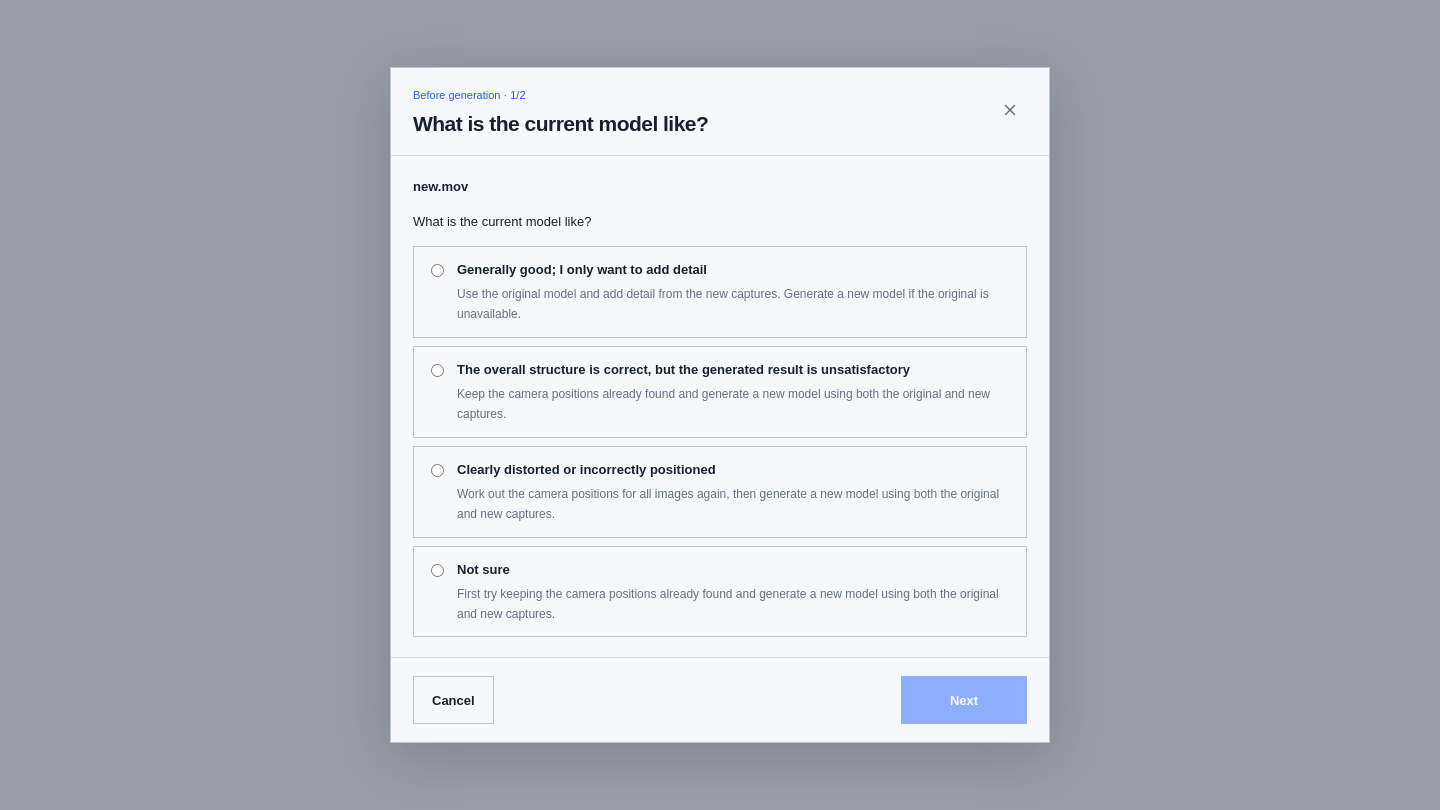
Test: reshoot descriptions use plain English without a second plan confirmation
Expected: the text "camera positions" is shown, [457,387,990,421]
Expected: the button "Next" is shown, [901,676,1027,724]
Click the 1st radio button.
click(438, 270)  # box [431,264,444,277]
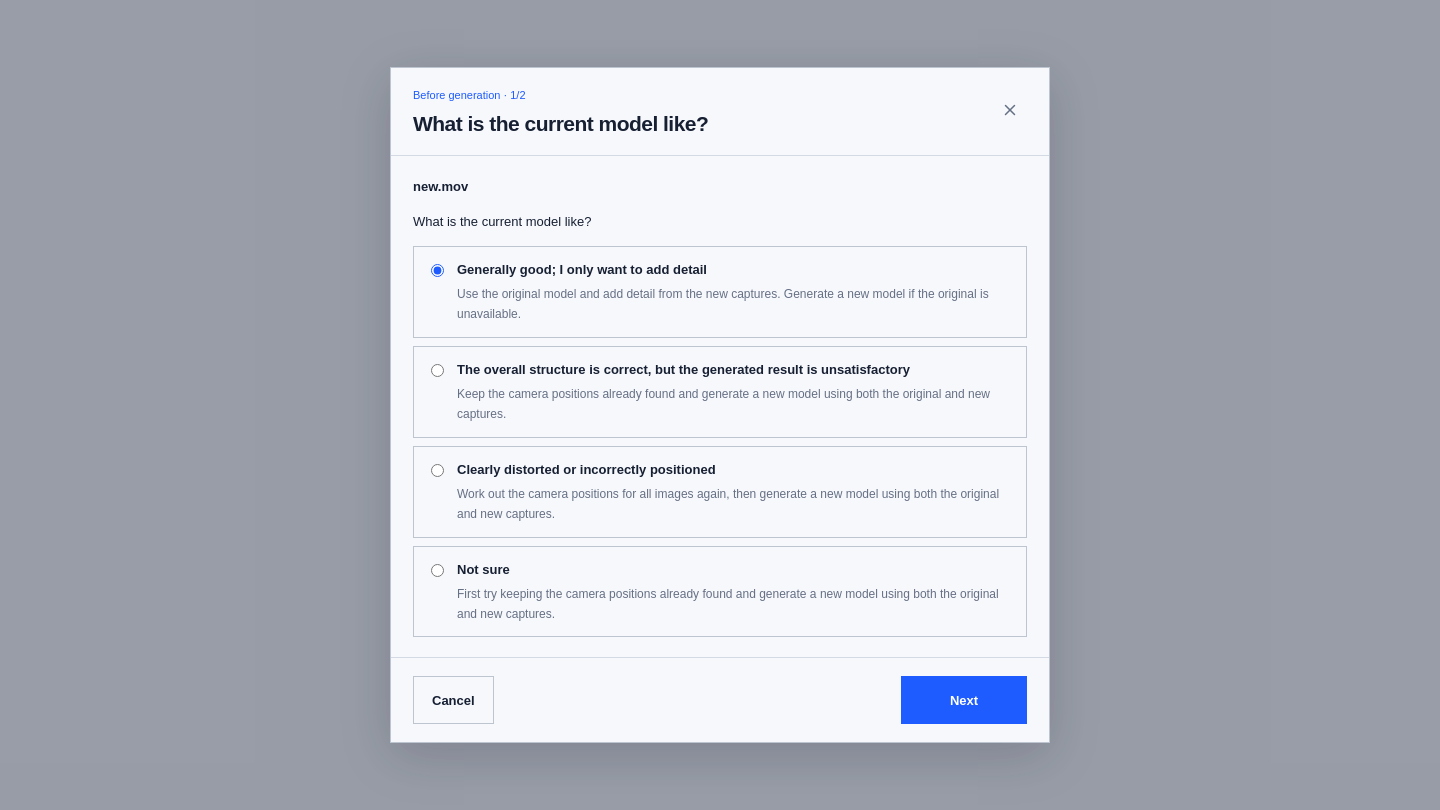
Click the button "Next".
click(964, 700)  # box [901,676,1027,724]
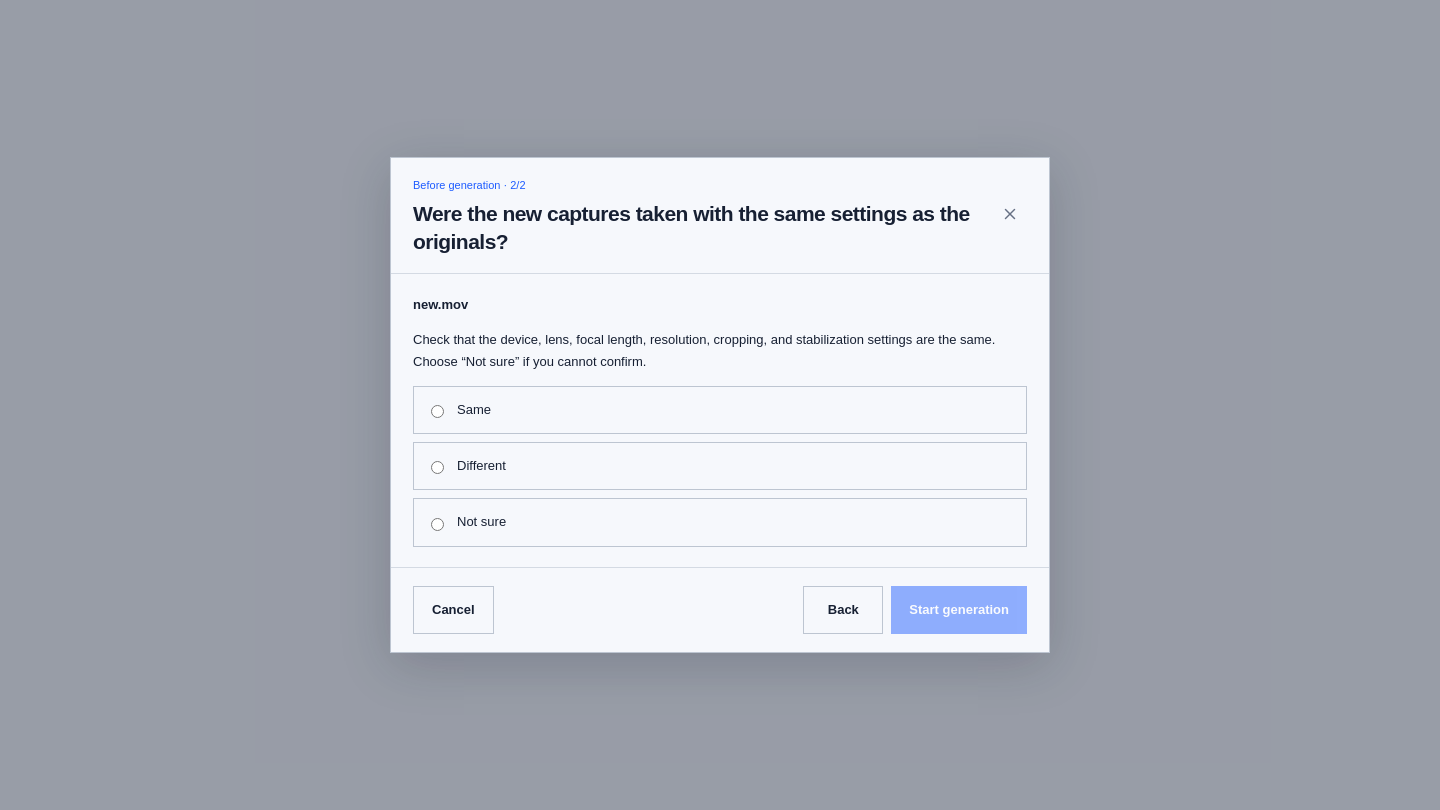
Now the text "stabilization" is shown, box [413,332,996,369]
Now the number of radio buttons is 3, box [431,405,444,418]; [431,461,444,474]; [431,518,444,530]
Now the button "Start generation" is shown, box [891,586,1027,634]
